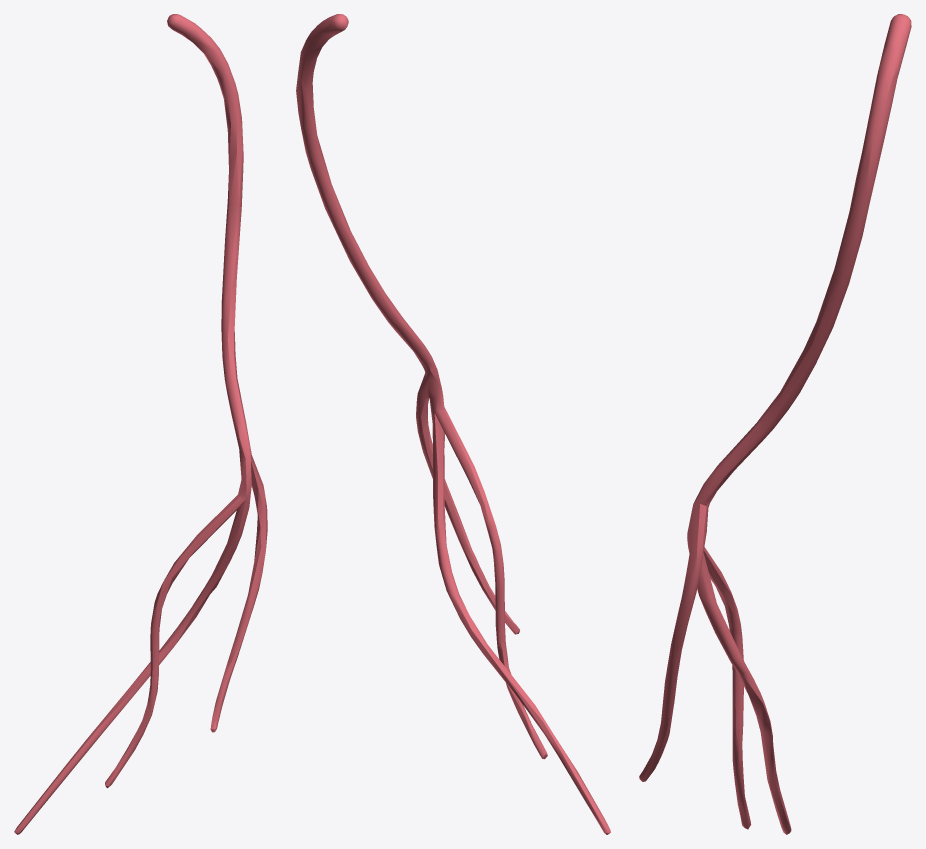
Rendered from fma50001_fj5080.glb.
The picture shows the model from 3 angles, left to right: view 1: azimuth 30°, elevation 25°; view 2: azimuth 150°, elevation 25°; view 3: azimuth 270°, elevation 25°; orthographic projection. The views are drawn at different scales.
Parts seen in each view (by area): view 1: FMA50001_FJ5080; view 2: FMA50001_FJ5080; view 3: FMA50001_FJ5080.
Part boxes in pixels (x1,y1,x2,y2): FMA50001_FJ5080: [14, 14, 267, 834]; FMA50001_FJ5080: [296, 14, 610, 834]; FMA50001_FJ5080: [639, 14, 911, 834].
Bounding box in the file's own units: 0.0119 × 0.0326 × 0.00851.
